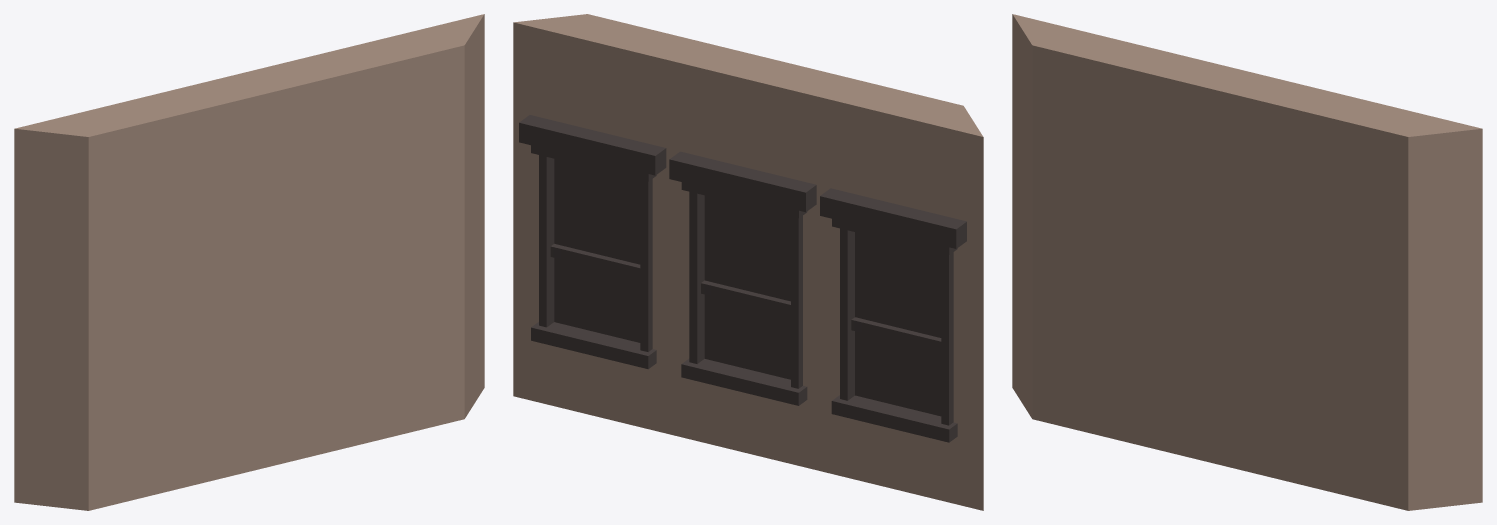
The model's file is building_Floor_windows.fbx.
The picture shows the model from 3 angles, left to right: view 1: azimuth 30°, elevation 25°; view 2: azimuth 150°, elevation 25°; view 3: azimuth 330°, elevation 25°; orthographic projection.
Parts seen in each view (by area): view 1: building_Floor_windows; view 2: building_Floor_windows; view 3: building_Floor_windows.
Boxes of the visible parts, box(x1,y1,x2,y2) form: building_Floor_windows: box(14, 14, 484, 510); building_Floor_windows: box(513, 14, 983, 510); building_Floor_windows: box(1012, 14, 1482, 510).
Bounding box in the file's own units: 500 × 380 × 70.
